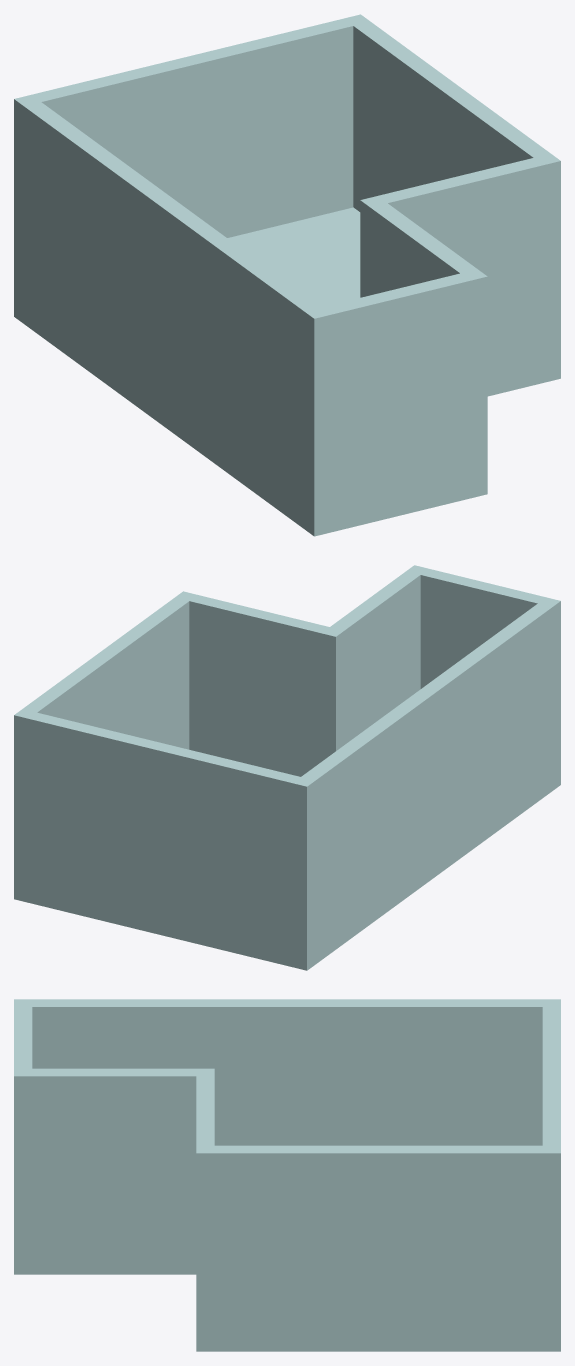
Rendered from Abstellkammer.fbx.
3 views of the same model, one above another, from view 1: azimuth 30°, elevation 25°; view 2: azimuth 150°, elevation 25°; view 3: azimuth 270°, elevation 25° (orthographic). The views are drawn at different scales.
Visible parts, largest first — view 1: Abstellkammerwand6, Abstellkammerwand5, Abstellkammerwand1, Abstellkammerboden, Abstellkammerwand3, Abstellkammerwand4, polySurface21; view 2: Abstellkammerwand5, Abstellkammerwand6, Abstellkammerwand3, Abstellkammerboden, Abstellkammerwand4, polySurface21, Abstellkammerwand1; view 3: Abstellkammerwand4, Abstellkammerwand6, polySurface21, Abstellkammerboden, Abstellkammerwand5, Abstellkammerwand3, Abstellkammerwand1.
Part boxes in pixels (x1,y1,x2,y2): Abstellkammerwand6: [14, 99, 321, 499]; Abstellkammerwand5: [15, 14, 360, 237]; Abstellkammerwand1: [314, 273, 487, 500]; Abstellkammerboden: [14, 207, 560, 536]; Abstellkammerwand3: [360, 158, 560, 359]; Abstellkammerwand4: [353, 14, 560, 211]; polySurface21: [360, 200, 487, 297]; Abstellkammerwand5: [14, 712, 306, 939]; Abstellkammerwand6: [301, 601, 560, 939]; Abstellkammerwand3: [183, 591, 335, 776]; Abstellkammerboden: [14, 754, 560, 970]; Abstellkammerwand4: [14, 591, 189, 749]; polySurface21: [330, 565, 420, 750]; Abstellkammerwand1: [415, 565, 560, 688]; Abstellkammerwand4: [196, 1145, 560, 1318]; Abstellkammerwand6: [14, 999, 560, 1145]; polySurface21: [14, 1068, 213, 1241]; Abstellkammerboden: [14, 1241, 560, 1351]; Abstellkammerwand5: [542, 999, 560, 1153]; Abstellkammerwand3: [196, 1068, 214, 1153]; Abstellkammerwand1: [14, 999, 32, 1075].
Size of the model in its own units: 2 by 1.2 by 3.
